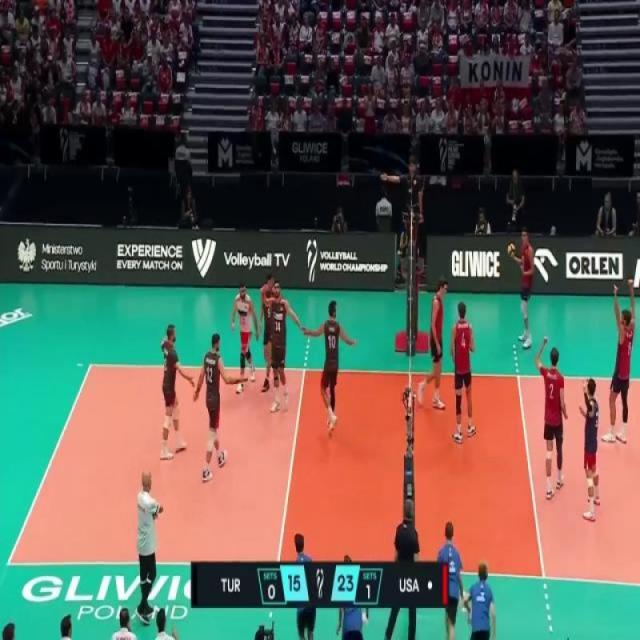volleyball: (506, 240, 517, 260)
